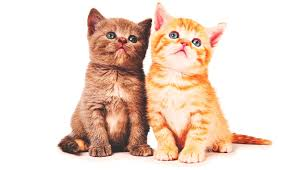Gato: (67, 6, 152, 77), (154, 1, 225, 75)
